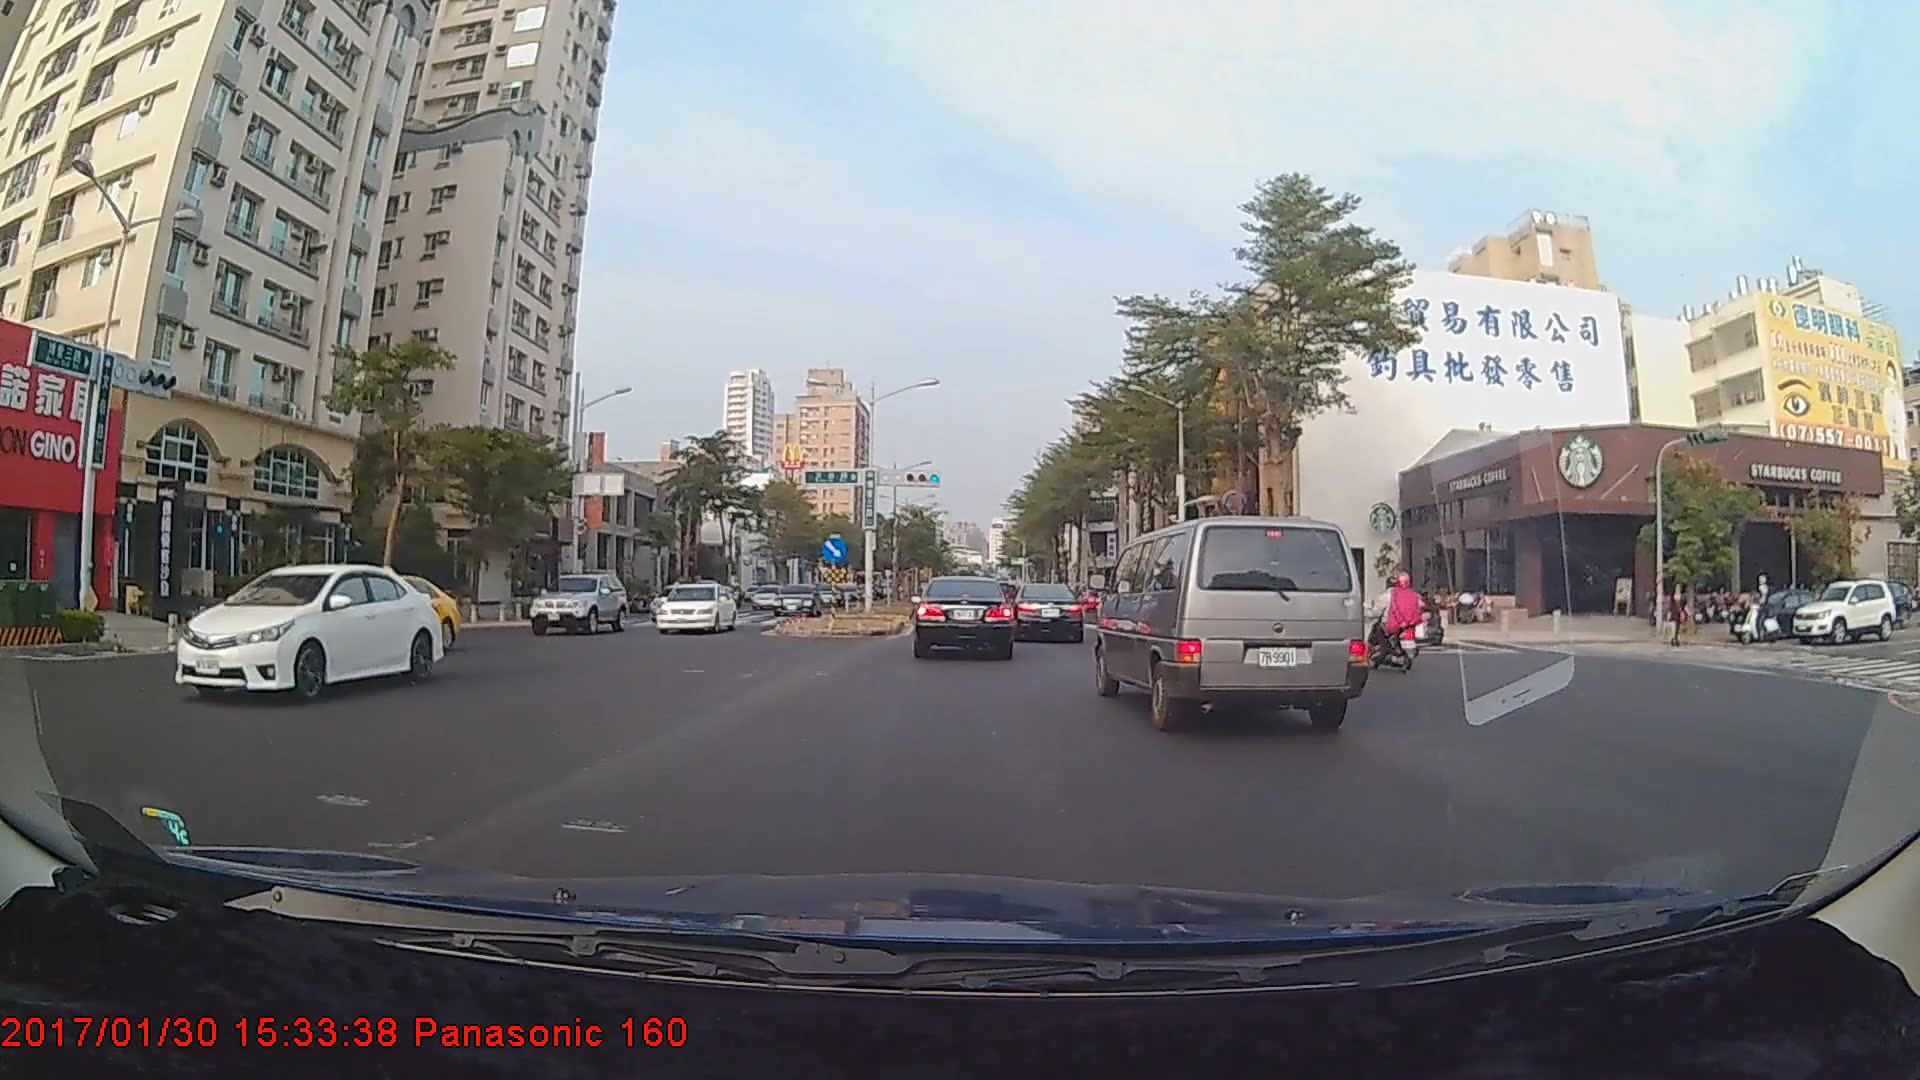pedestrian: (1668, 584, 1688, 650)
rider: (1735, 579, 1784, 647)
vehicle: (1098, 510, 1364, 733), (171, 562, 444, 701), (913, 574, 1016, 660), (1790, 581, 1902, 642), (528, 569, 625, 634), (652, 582, 736, 635), (1012, 582, 1085, 642), (768, 584, 823, 617)
